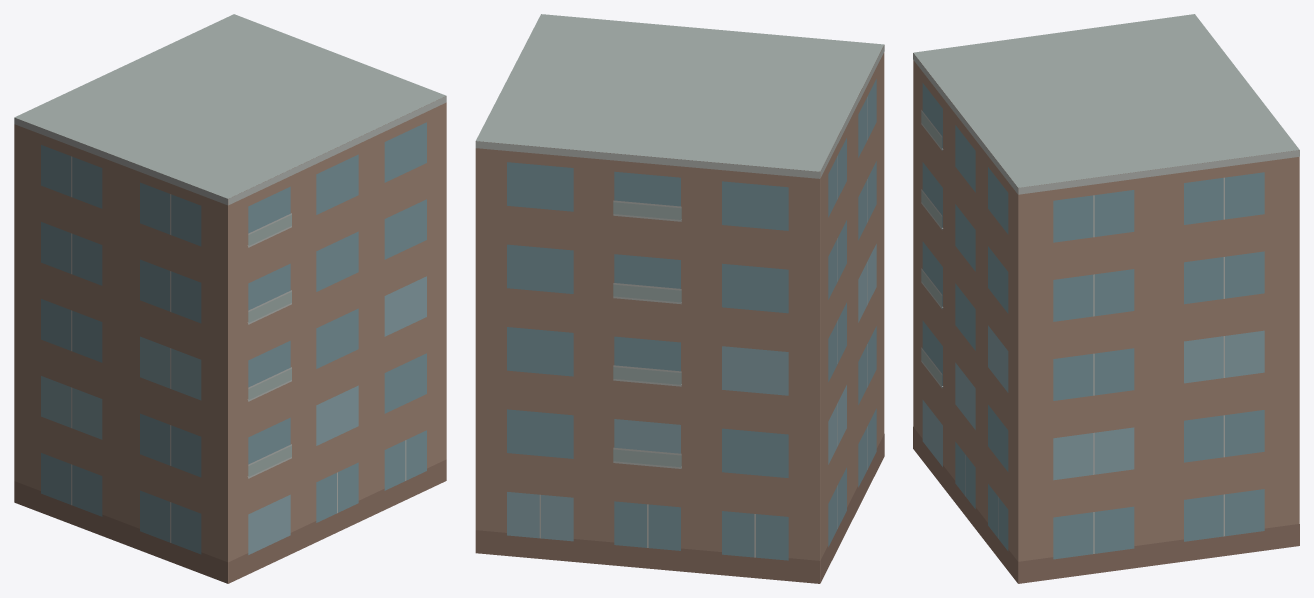
The model's file is survey-upis-32920346.glb.
3 views of the same model, side by side, from view 1: azimuth 30°, elevation 25°; view 2: azimuth 150°, elevation 25°; view 3: azimuth 270°, elevation 25° (orthographic). The views are drawn at different scales.
Parts seen in each view (by area): view 1: survey-upis-32920346.tmp; view 2: survey-upis-32920346.tmp; view 3: survey-upis-32920346.tmp.
Boxes of the visible parts, x1,y1,x2,y2 form: survey-upis-32920346.tmp: (14, 14, 446, 583); survey-upis-32920346.tmp: (475, 14, 884, 583); survey-upis-32920346.tmp: (913, 14, 1299, 583).
Size of the model in its own units: 13.34 by 14.15 by 12.53.
